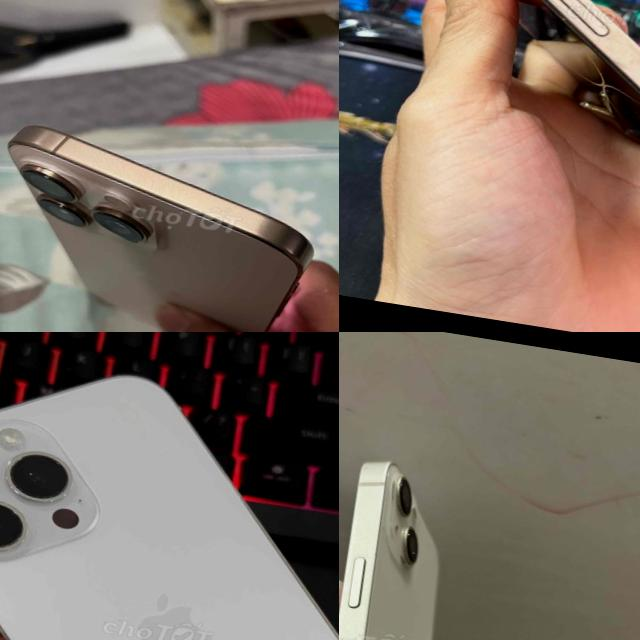gen_12_13: (339, 447, 488, 640)
gen_14: (0, 341, 339, 640), (339, 0, 640, 302)
gen_16: (8, 125, 312, 332)
